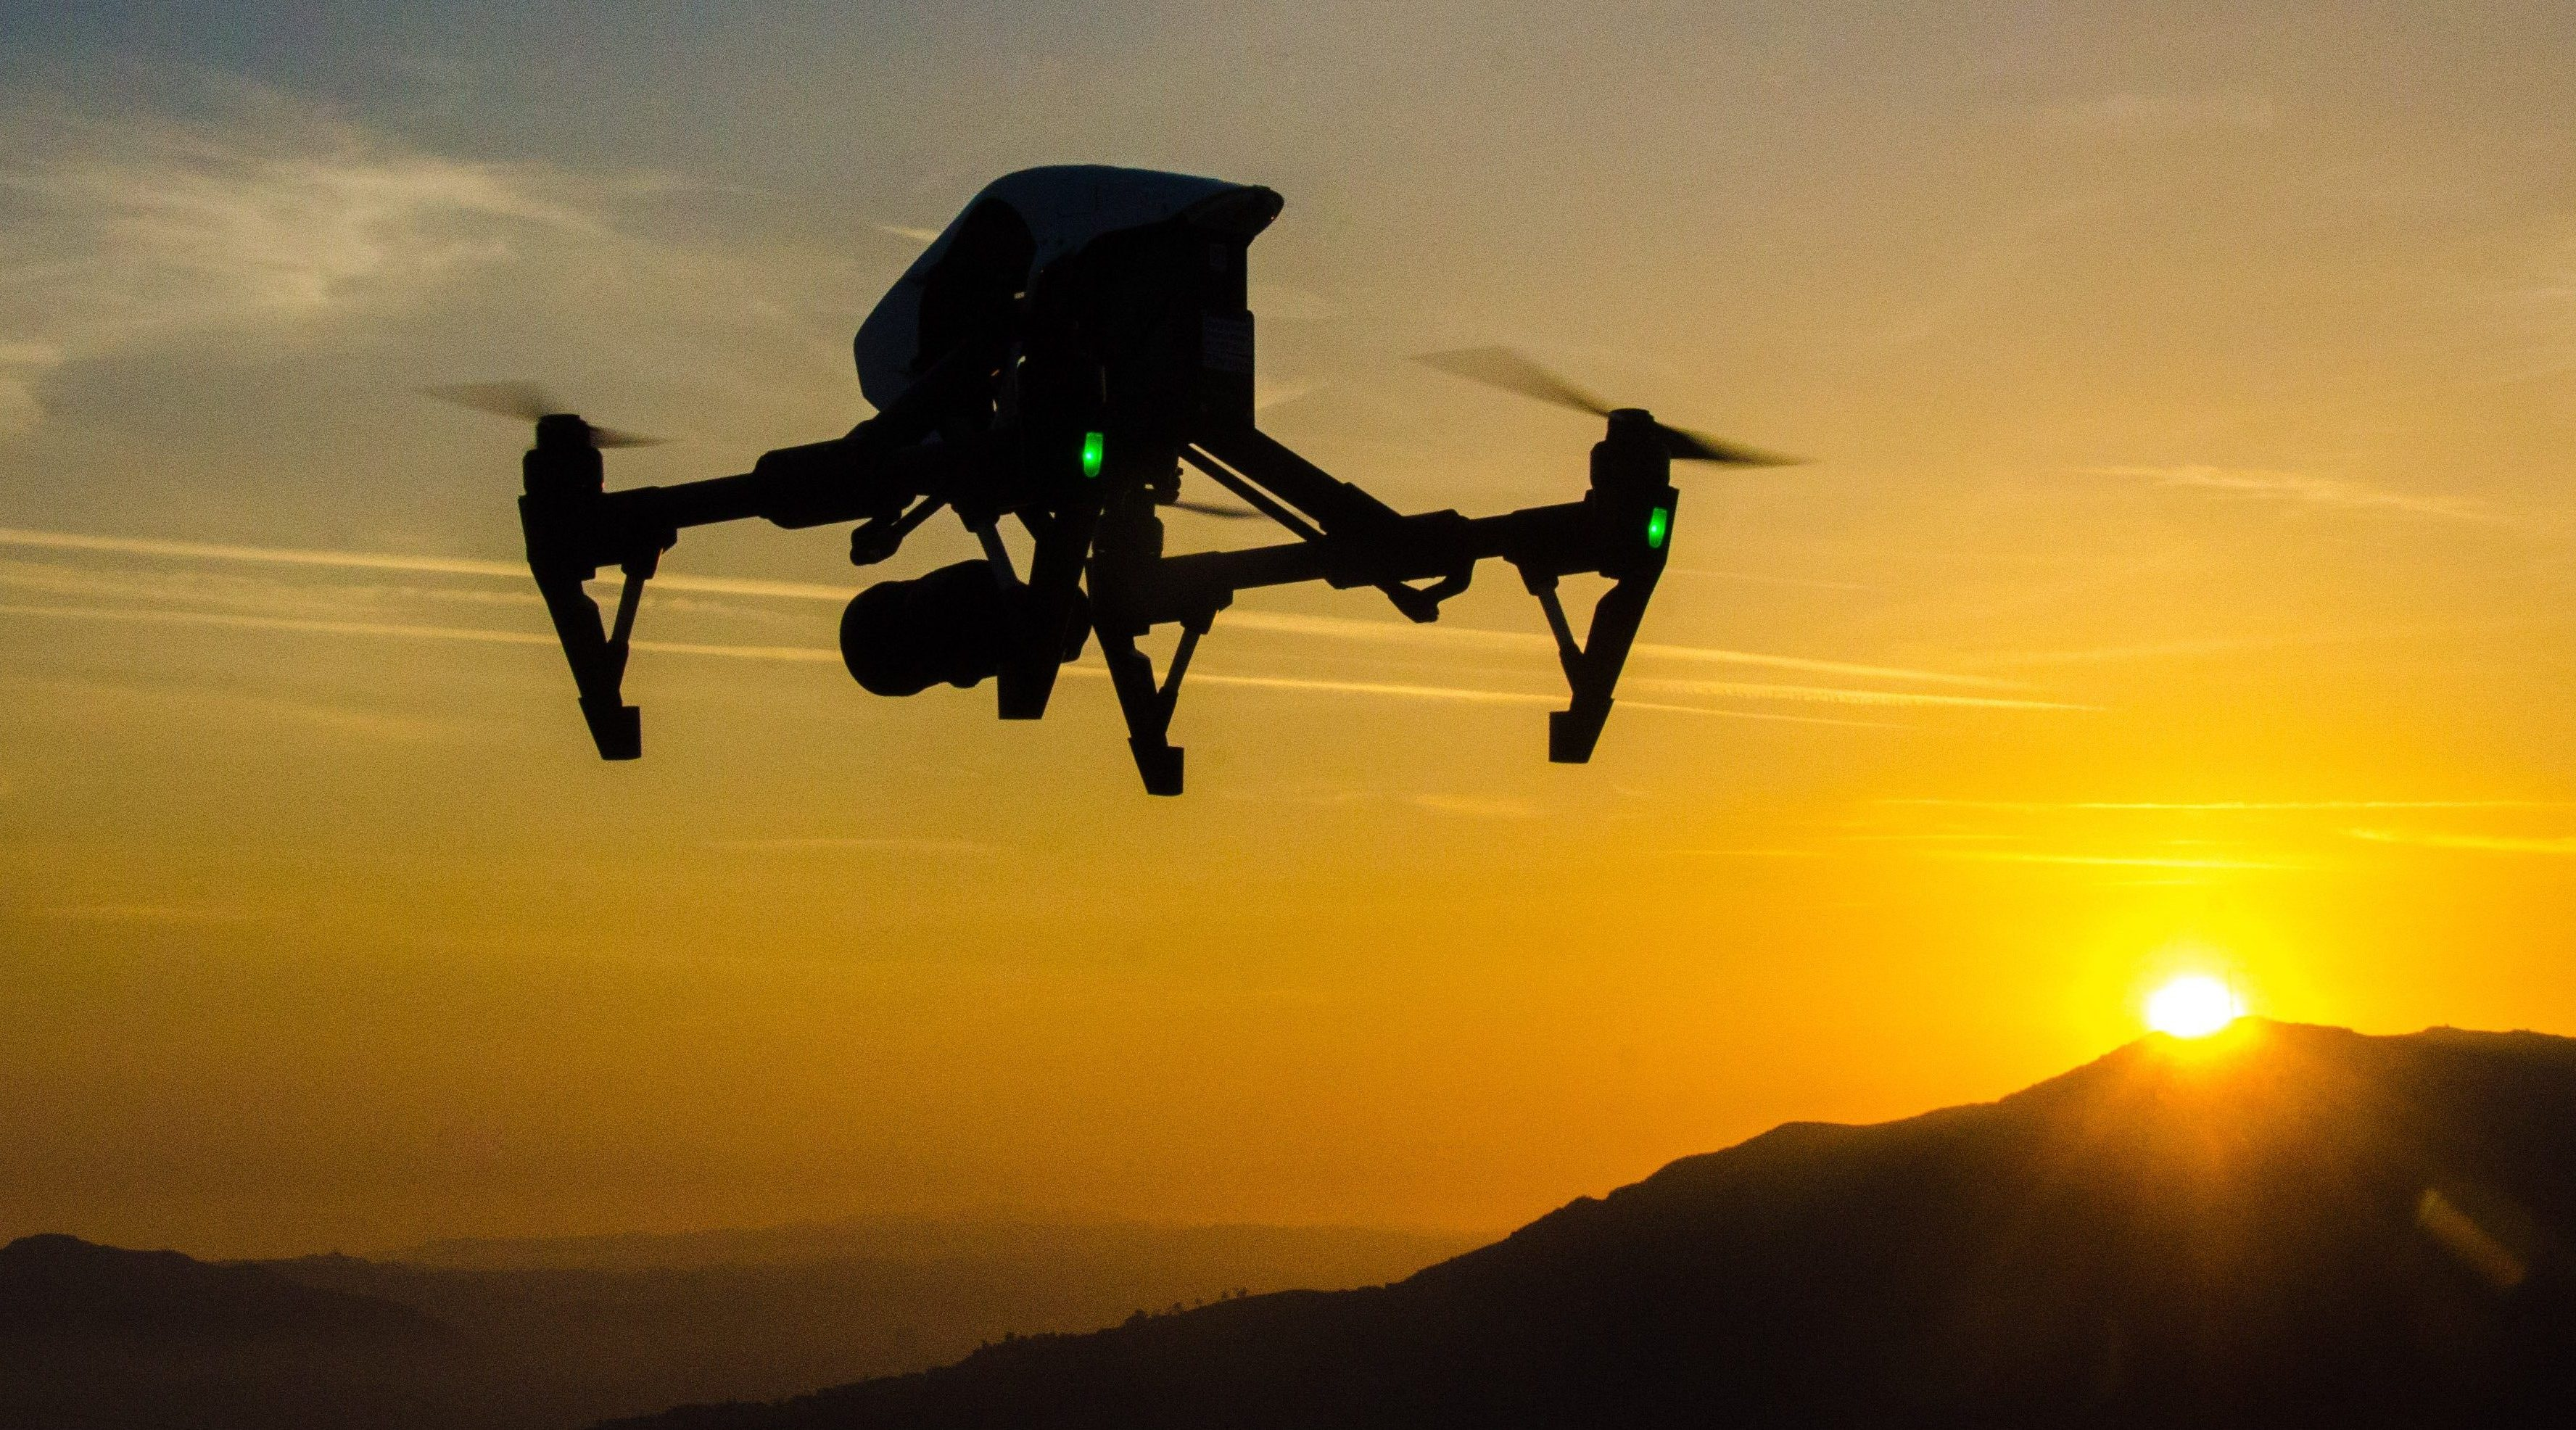drone: (417, 158, 1824, 803)
